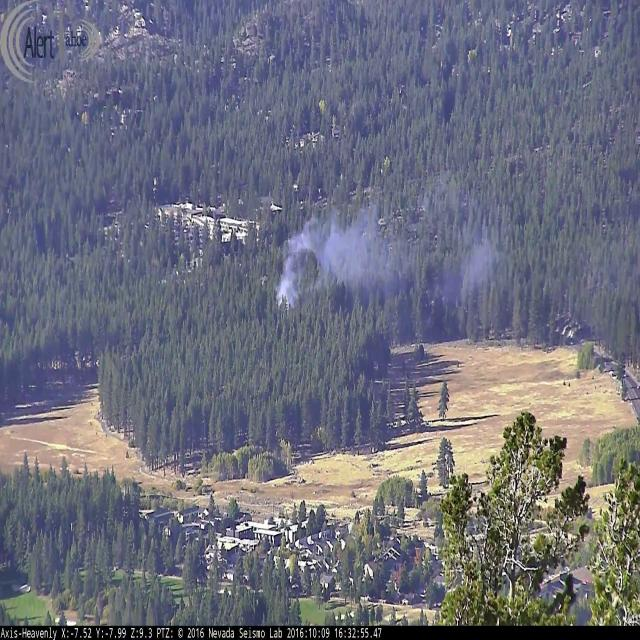smoke: (266, 203, 515, 329)
